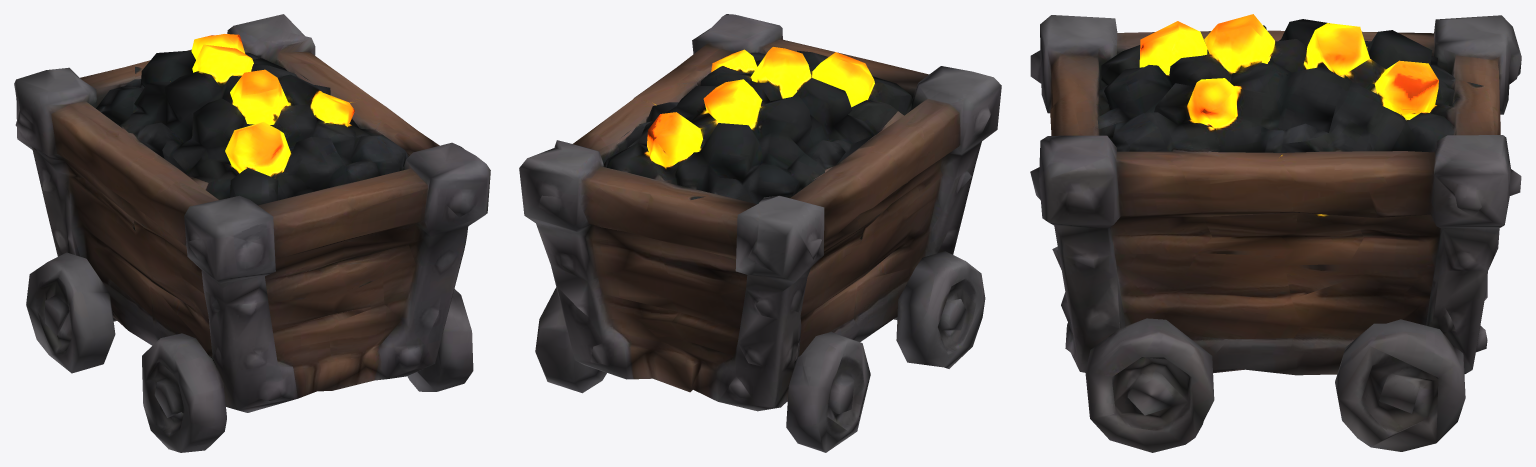
Rendered from fg_cart-b4cr3BWz.glb.
The picture shows the model from 3 angles, left to right: view 1: azimuth 30°, elevation 25°; view 2: azimuth 150°, elevation 25°; view 3: azimuth 270°, elevation 25°; orthographic projection. The views are drawn at different scales.
Visible parts, largest first — view 1: tripo_node_cdb47444-8e6d-4312-89d5-9e2e2d2a528b; view 2: tripo_node_cdb47444-8e6d-4312-89d5-9e2e2d2a528b; view 3: tripo_node_cdb47444-8e6d-4312-89d5-9e2e2d2a528b.
Part boxes in pixels (left/top/right/bottom): tripo_node_cdb47444-8e6d-4312-89d5-9e2e2d2a528b: left=14, top=14, right=490, bottom=452; tripo_node_cdb47444-8e6d-4312-89d5-9e2e2d2a528b: left=519, top=14, right=1001, bottom=452; tripo_node_cdb47444-8e6d-4312-89d5-9e2e2d2a528b: left=1030, top=14, right=1521, bottom=452.
Bounding box in the file's own units: 1.7 × 1.75 × 2.2.
Materials: 1 (1 with a texture image).
